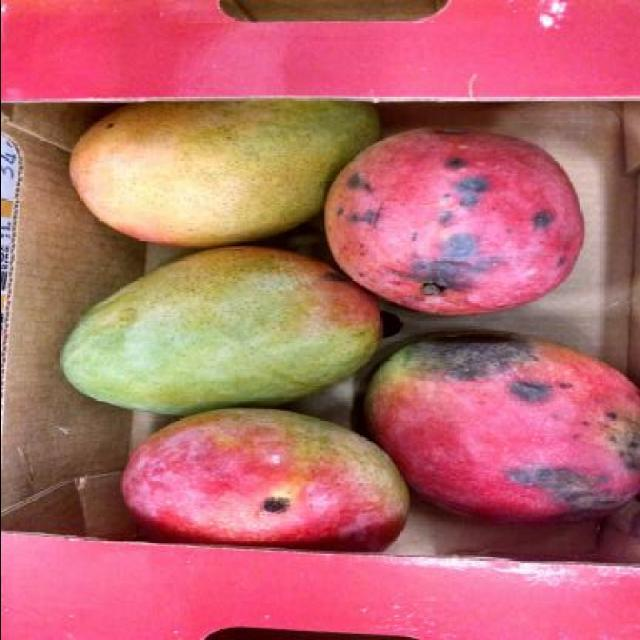Mango: (58, 96, 640, 553), (56, 244, 379, 416)
